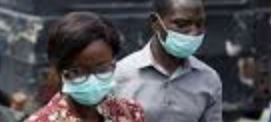with_facemask: (64, 75, 117, 108), (164, 26, 212, 60)
